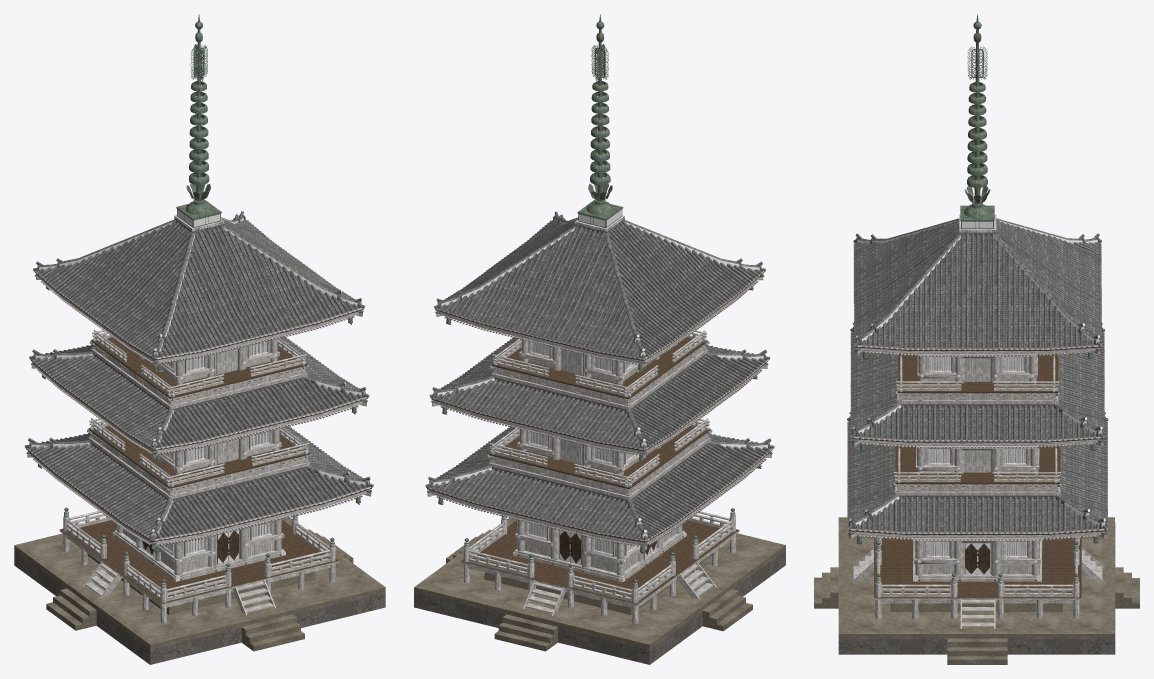
Rendered from Pagoda_Sanju_32m.gltf.
3 renders of one model, left to right at view 1: azimuth 30°, elevation 25°; view 2: azimuth 150°, elevation 25°; view 3: azimuth 270°, elevation 25°, orthographic.
Visible parts, largest first — view 1: Base_LOD0, Roof3_LOD0, Roof1_LOD0, Roof2_LOD0, Wall1_LOD0, Sorin_LOD0, Wall3_LOD0, Wall2_LOD0; view 2: Base_LOD0, Roof3_LOD0, Roof1_LOD0, Roof2_LOD0, Wall1_LOD0, Sorin_LOD0, Wall3_LOD0, Wall2_LOD0; view 3: Roof3_LOD0, Base_LOD0, Roof1_LOD0, Roof2_LOD0, Wall1_LOD0, Sorin_LOD0, Wall3_LOD0, Wall2_LOD0.
Part boxes in pixels (x1=…): Base_LOD0: x1=14, y1=507, x2=385, y2=664; Roof3_LOD0: x1=33, y1=211, x2=365, y2=364; Roof1_LOD0: x1=24, y1=418, x2=373, y2=546; Roof2_LOD0: x1=29, y1=329, x2=369, y2=454; Wall1_LOD0: x1=27, y1=454, x2=371, y2=581; Sorin_LOD0: x1=176, y1=14, x2=221, y2=227; Wall3_LOD0: x1=36, y1=276, x2=362, y2=384; Wall2_LOD0: x1=31, y1=365, x2=366, y2=474; Base_LOD0: x1=414, y1=508, x2=785, y2=664; Roof3_LOD0: x1=433, y1=211, x2=765, y2=364; Roof1_LOD0: x1=425, y1=418, x2=774, y2=546; Roof2_LOD0: x1=429, y1=330, x2=770, y2=455; Wall1_LOD0: x1=427, y1=454, x2=771, y2=582; Sorin_LOD0: x1=577, y1=14, x2=623, y2=227; Wall3_LOD0: x1=436, y1=277, x2=763, y2=385; Wall2_LOD0: x1=432, y1=365, x2=767, y2=474; Roof3_LOD0: x1=853, y1=214, x2=1102, y2=356; Base_LOD0: x1=814, y1=517, x2=1139, y2=664; Roof1_LOD0: x1=847, y1=411, x2=1108, y2=540; Roof2_LOD0: x1=850, y1=322, x2=1104, y2=448; Wall1_LOD0: x1=849, y1=534, x2=1106, y2=581; Sorin_LOD0: x1=960, y1=14, x2=994, y2=228; Wall3_LOD0: x1=855, y1=350, x2=1099, y2=383; Wall2_LOD0: x1=852, y1=441, x2=1103, y2=474.
Size of the model in its own units: 16.16 by 31.88 by 16.18.
Materials: 15 (14 with a texture image).
